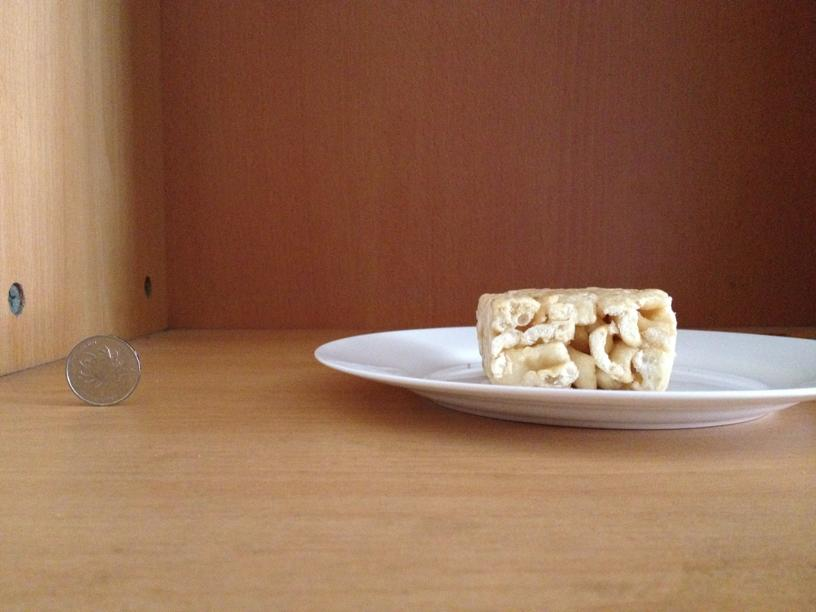coin: (63, 336, 143, 404)
sachima: (471, 288, 674, 393)
